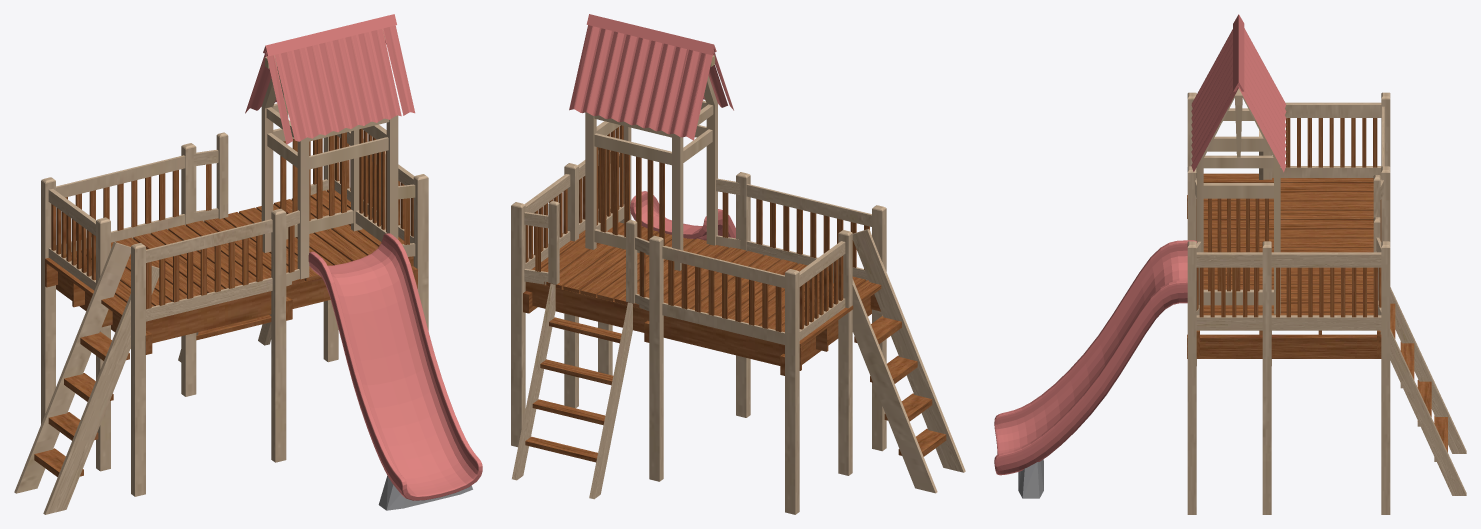
Rendered from sh-bs0-child-hut.glb.
The picture shows the model from 3 angles, left to right: view 1: azimuth 30°, elevation 25°; view 2: azimuth 150°, elevation 25°; view 3: azimuth 270°, elevation 25°; orthographic projection. The views are drawn at different scales.
Parts seen in each view (by area): view 1: WoodParts, ChidHut; view 2: WoodParts, ChidHut; view 3: WoodParts, ChidHut.
Part boxes in pixels (bbox=[...]): WoodParts: bbox=[14, 33, 428, 514]; ChidHut: bbox=[245, 14, 482, 510]; WoodParts: bbox=[511, 55, 965, 514]; ChidHut: bbox=[569, 14, 735, 240]; WoodParts: bbox=[1187, 88, 1466, 514]; ChidHut: bbox=[994, 14, 1286, 498].
Bounding box in the file's own units: 1 × 1 × 1.
Materials: 4 (2 with a texture image).
